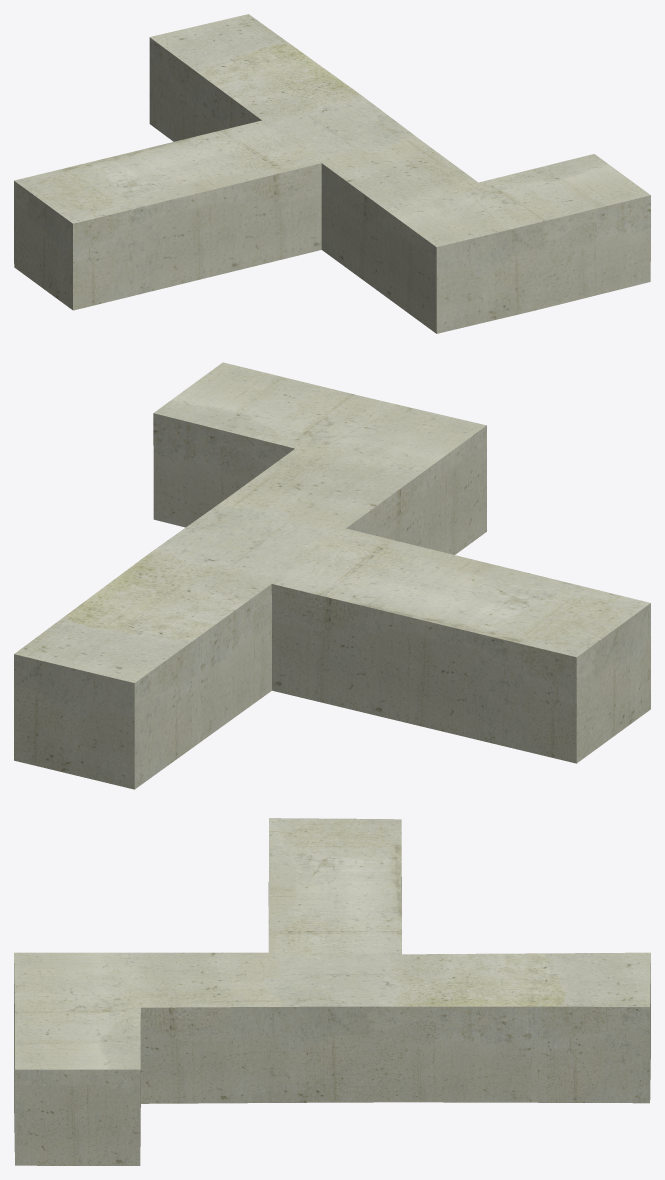
File: reception hallway a.fbx
3 renders of one model, top to bottom at view 1: azimuth 30°, elevation 25°; view 2: azimuth 150°, elevation 25°; view 3: azimuth 270°, elevation 25°, orthographic. The views are drawn at different scales.
Visible parts, largest first — view 1: hallway A; view 2: hallway A; view 3: hallway A.
Part boxes in pixels (x1,y1,x2,y2): hallway A: (14, 14, 650, 333); hallway A: (14, 362, 650, 789); hallway A: (14, 818, 650, 1165).
Bounding box in the file's own units: 3355 × 3600 × 609.
